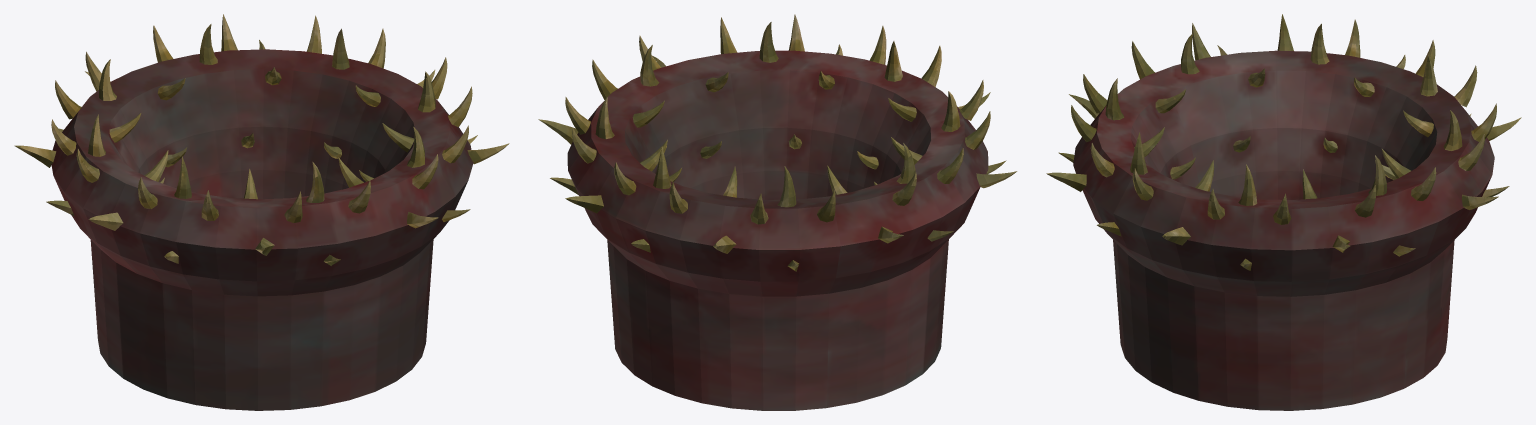
The model's file is Monster.fbx.
3 renders of one model, left to right at view 1: azimuth 30°, elevation 25°; view 2: azimuth 150°, elevation 25°; view 3: azimuth 270°, elevation 25°, orthographic.
Visible parts, largest first — view 1: Monster, Outer_Teeth.072; view 2: Monster, Outer_Teeth.072; view 3: Monster, Outer_Teeth.072.
Boxes of the visible parts, x1,y1,x2,y2 form: Monster: (51, 49, 473, 410); Outer_Teeth.072: (14, 14, 509, 265); Monster: (567, 50, 988, 410); Outer_Teeth.072: (538, 14, 1017, 271); Monster: (1073, 50, 1494, 410); Outer_Teeth.072: (1046, 14, 1521, 270).
Size of the model in its own units: 125 by 74.44 by 125.
2 materials, 2 textured.
